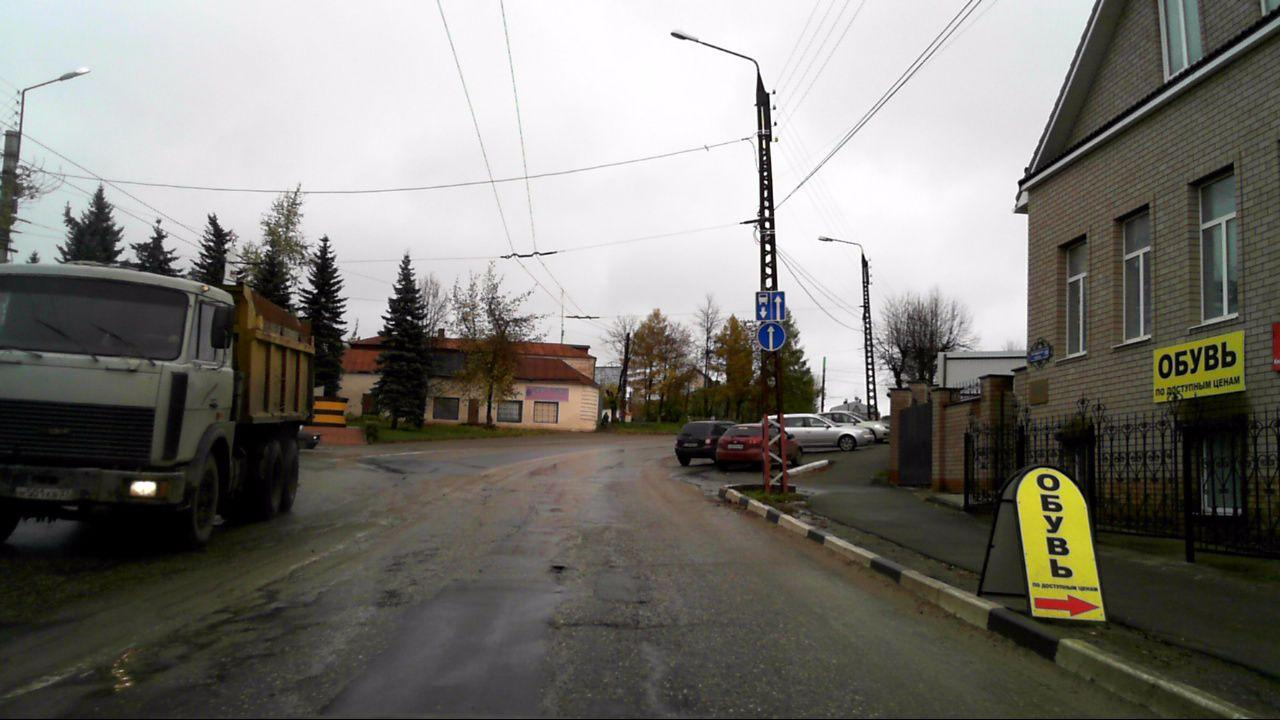4_1_1: (757, 323, 787, 352)
5_11_1: (753, 289, 789, 323)
